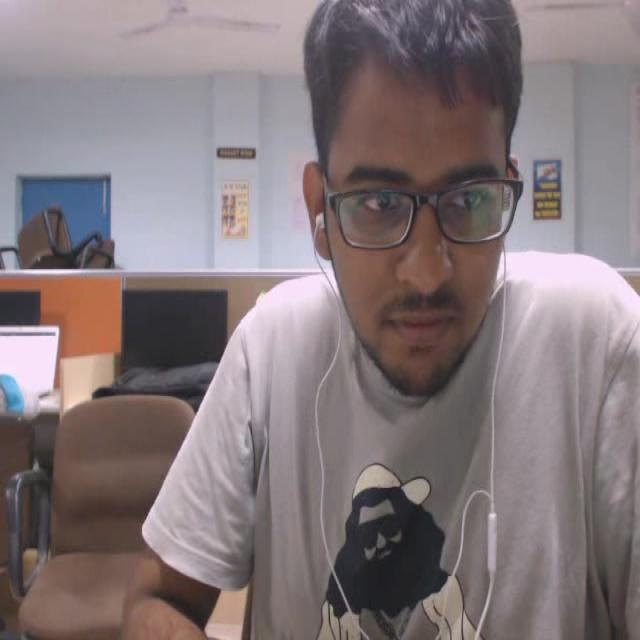Engaged: (267, 0, 564, 426)
